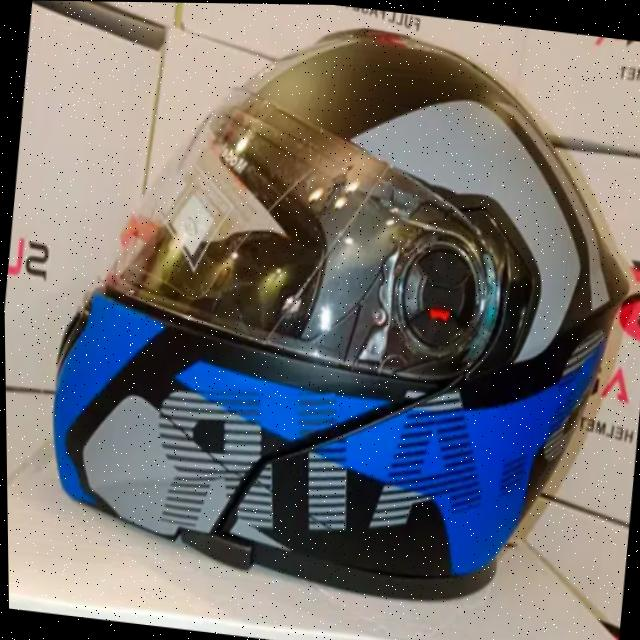Helmet: (22, 0, 636, 619)
